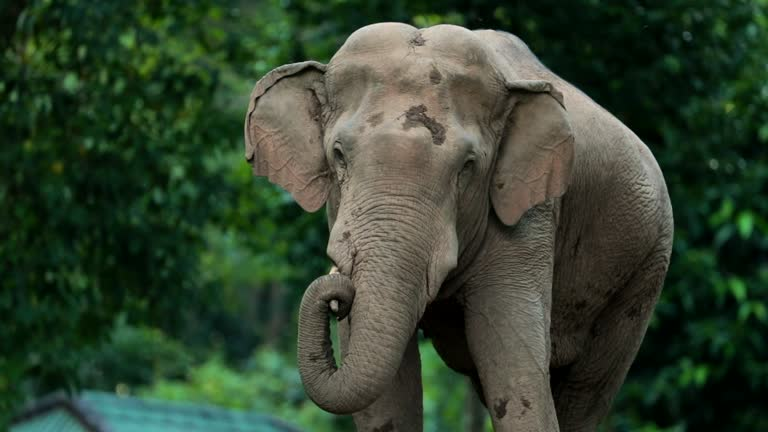elephant: (183, 10, 704, 430)
